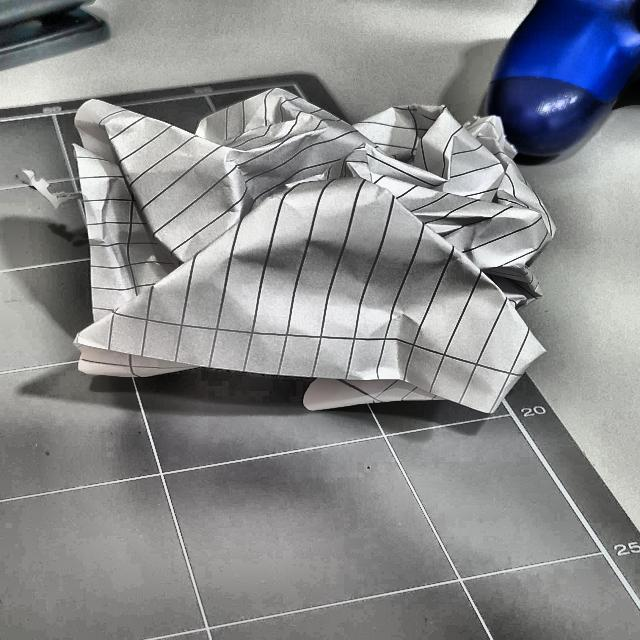paper: (33, 74, 548, 424)
